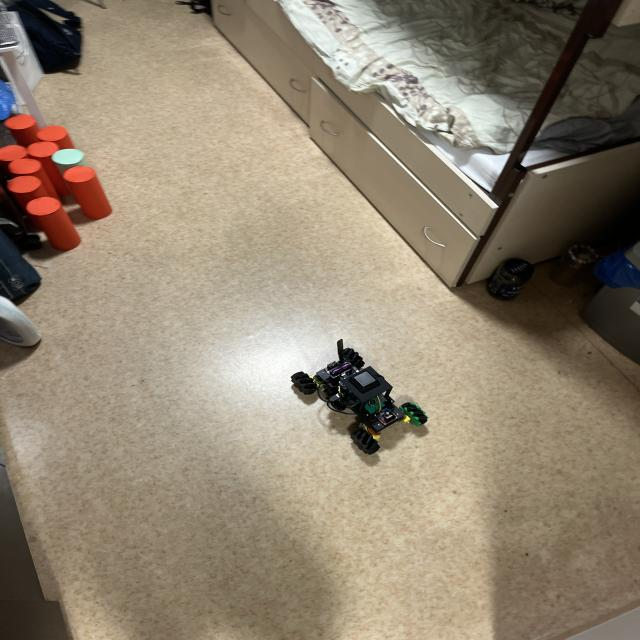robot: (291, 339, 428, 454)
